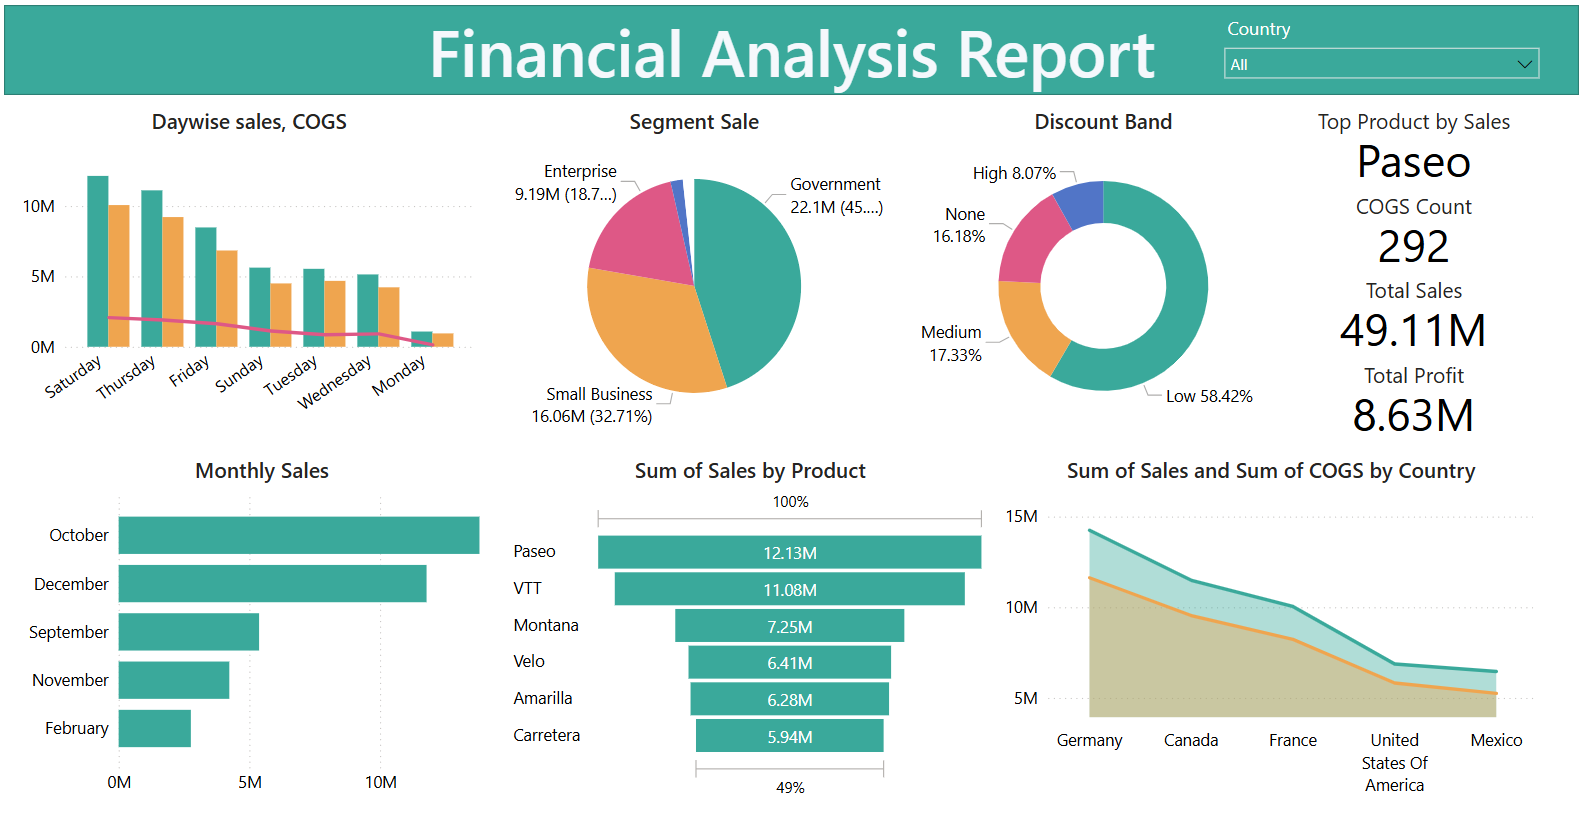

This screenshot's page, from the dashboard's own definition file:
{"tool":"powerbi","page":{"name":"Page 1","canvas":[1400,720],"ordinal":0},"visuals":[{"type":"barChart","title":"Monthly Sales","fields":{"Category":["Finance_data.Month Name"],"Y":["Sum(Finance_data. Sales)"]},"box":[11.2,400,436.2,311.2],"z":0},{"type":"donutChart","title":"Discount Band","fields":{"Y":["Sum(Finance_data. Sales)"],"Category":["Finance_data.Discount Band"]},"box":[801.2,90,352.5,295],"z":1000},{"type":"pieChart","title":"Segment Sale","fields":{"Category":["Finance_data.Segment"],"Y":["Sum(Finance_data. Sales)"]},"box":[425,90,376.2,295],"z":2000},{"type":"areaChart","fields":{"Y":["Sum(Finance_data. Sales)","Sum(Finance_data.COGS)"],"Category":["Finance_data.Country"]},"box":[878.8,400,495,311.2],"z":3000},{"type":"lineClusteredColumnComboChart","title":"Daywise sales, COGS ","fields":{"Category":["Finance_data.Day Name"],"Y":["Sum(Finance_data. Sales)","Sum(Finance_data.COGS)"],"Y2":["Sum(Finance_data.Profit)"]},"box":[11.2,90,413.8,295],"z":4000},{"type":"funnel","fields":{"Category":["Finance_data.Product"],"Y":["Sum(Finance_data. Sales)"]},"box":[447.5,400,431.2,311.2],"z":5000},{"type":"card","title":"Top Product by Sales","fields":{"Values":["Min(Finance_data.Product)"]},"box":[1133.8,90,240,70],"z":6000},{"type":"card","title":"Total Sales","fields":{"Values":["Sum(Finance_data. Sales)"]},"box":[1133.8,240,240,70],"z":7000},{"type":"card","title":"Total Profit","fields":{"Values":["Sum(Finance_data.Profit)"]},"box":[1133.8,315,240,70],"z":8000},{"type":"card","title":"COGS Count","fields":{"Values":["CountNonNull(Finance_data.COGS)"]},"box":[1133.8,165,240,70],"z":9000},{"type":"shape","box":[0,0,1400,80],"z":10000},{"type":"slicer","fields":{"Values":["Finance_data.Country"]},"box":[1074.3,4.3,300,70],"z":11000}]}

Visuals, with their boxes in screenshot pixels (x1, y1, x2, y2), scaled from the page's 1400x720 canvas onto the 1583x826 screenshot:
"Monthly Sales" barChart: 13,459,506,816
"Discount Band" donutChart: 906,103,1305,442
"Segment Sale" pieChart: 481,103,906,442
areaChart - Sum(Finance_data. Sales) x Sum(Finance_data.COGS): 994,459,1553,816
"Daywise sales, COGS " lineClusteredColumnComboChart: 13,103,481,442
funnel - Finance_data.Product x Sum(Finance_data. Sales): 506,459,994,816
"Top Product by Sales" card: 1282,103,1553,184
"Total Sales" card: 1282,275,1553,356
"Total Profit" card: 1282,361,1553,442
"COGS Count" card: 1282,189,1553,270
shape: 0,0,1582,92
slicer - Finance_data.Country: 1215,5,1554,85
